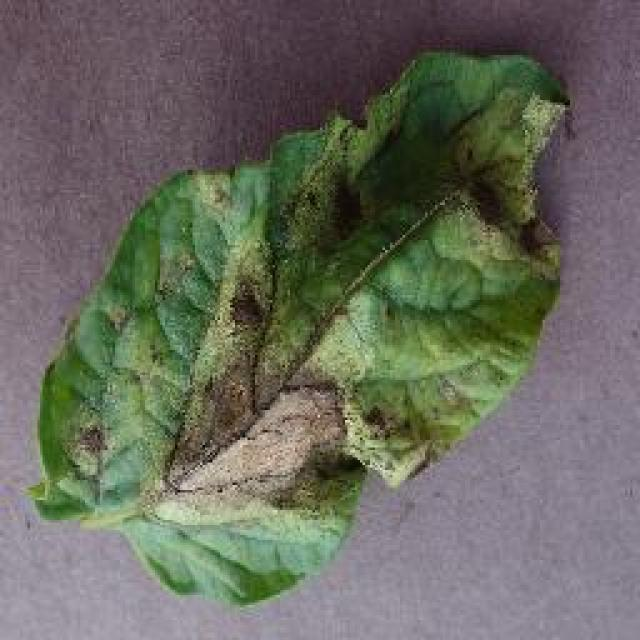Potato: (25, 45, 570, 607)
